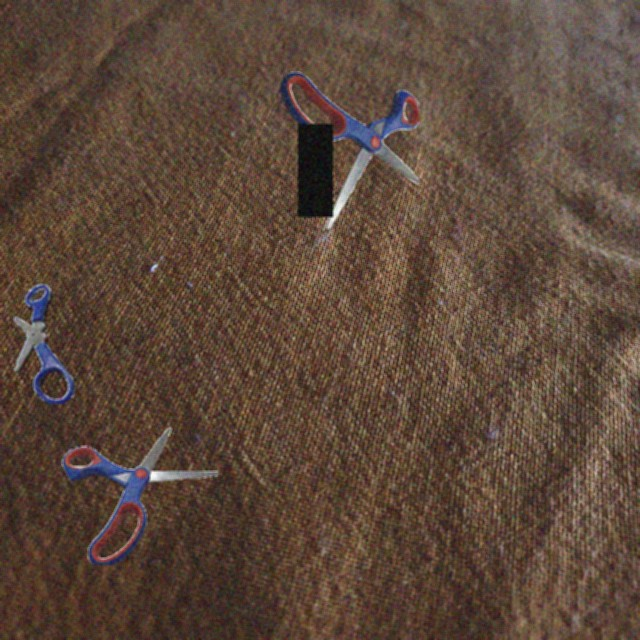scissors: (280, 72, 419, 229), (62, 427, 219, 565), (13, 283, 75, 404)
